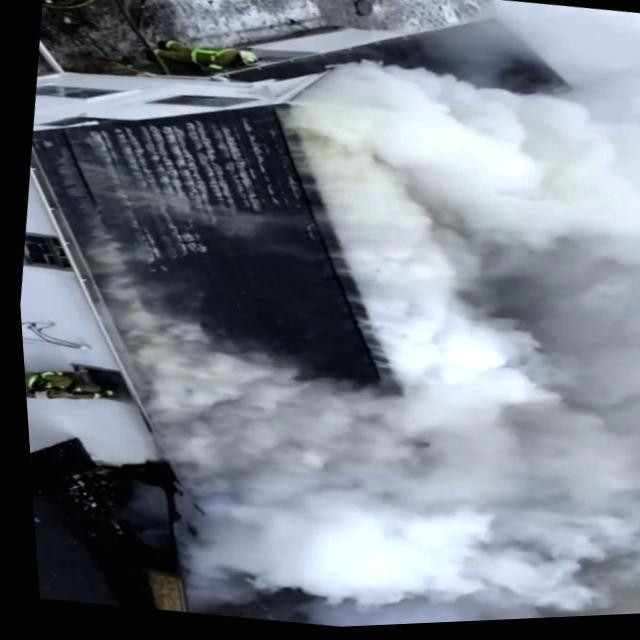smoke: (328, 130, 640, 575)
